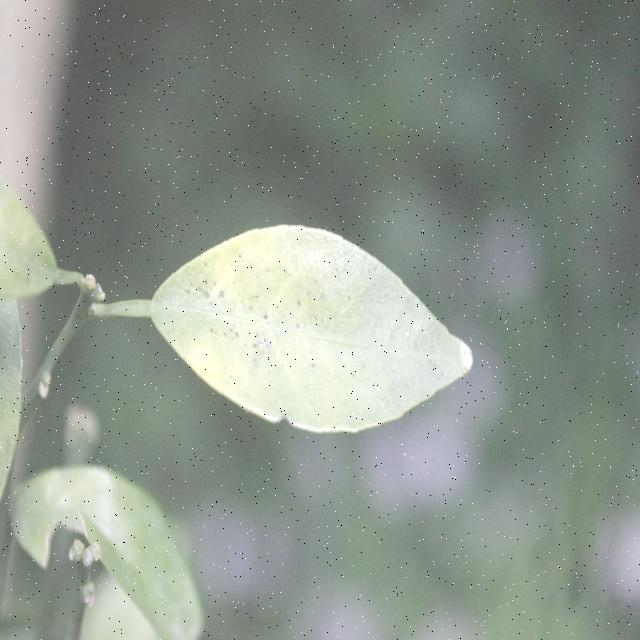blackspot: (175, 216, 457, 431)
